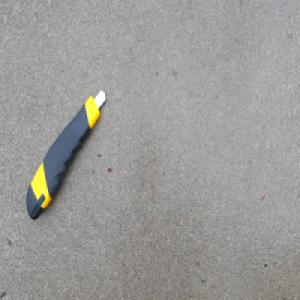Cutter: (26, 88, 106, 221)
